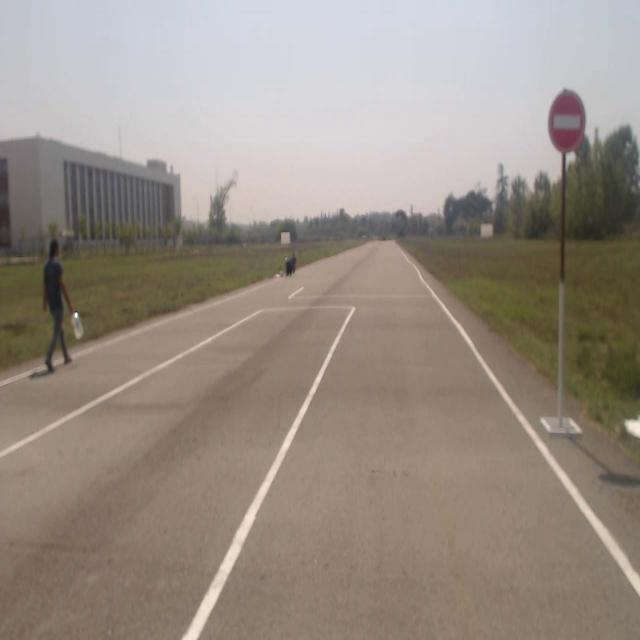girisyok: (548, 92, 584, 152)
